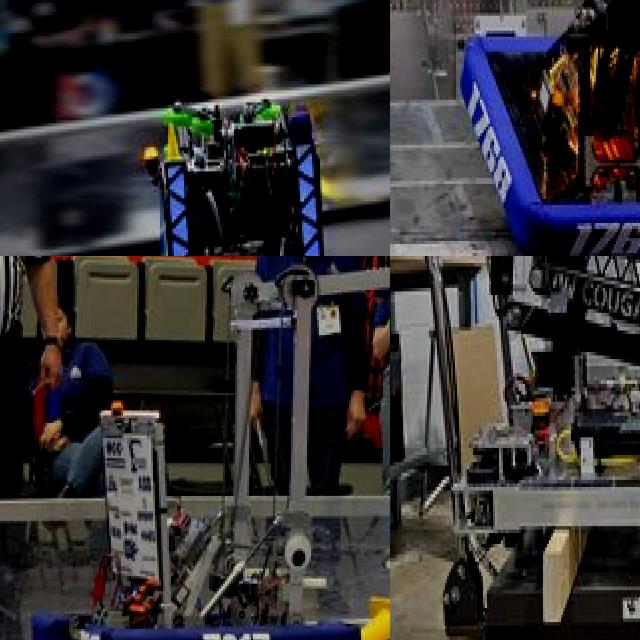FRC-Robots: (17, 256, 390, 640), (56, 54, 390, 256), (468, 256, 640, 558), (449, 0, 640, 256)
